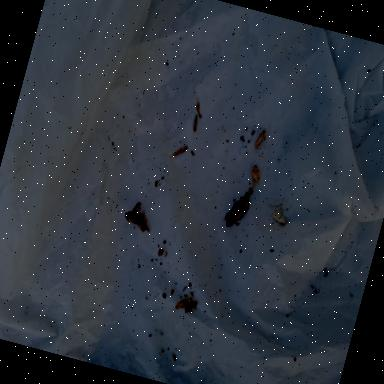pbw: (244, 162, 264, 188), (222, 208, 244, 226), (254, 128, 268, 150), (171, 142, 188, 159), (240, 191, 252, 214)
